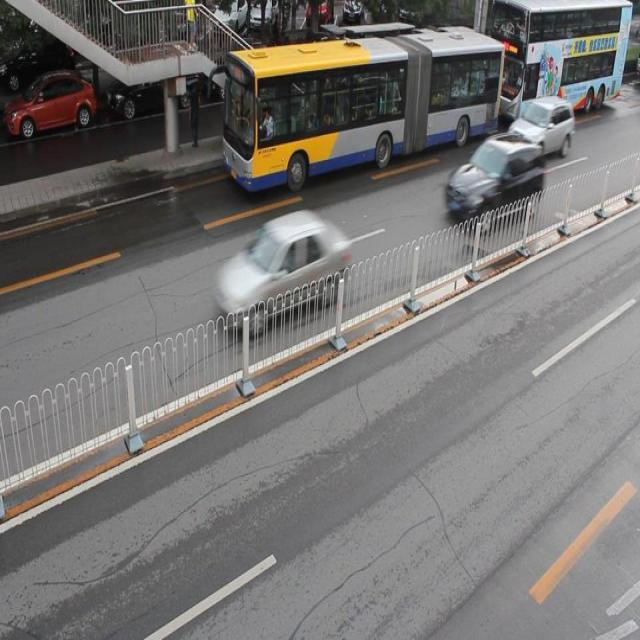car: (216, 207, 347, 332), (444, 132, 542, 229), (0, 69, 96, 137), (104, 58, 194, 119), (206, 37, 276, 104), (508, 94, 572, 161), (296, 40, 363, 96)
van: (225, 28, 503, 189), (488, 1, 630, 126)
